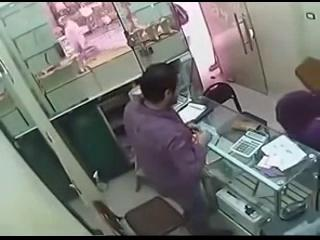Normal: (123, 63, 212, 232)
